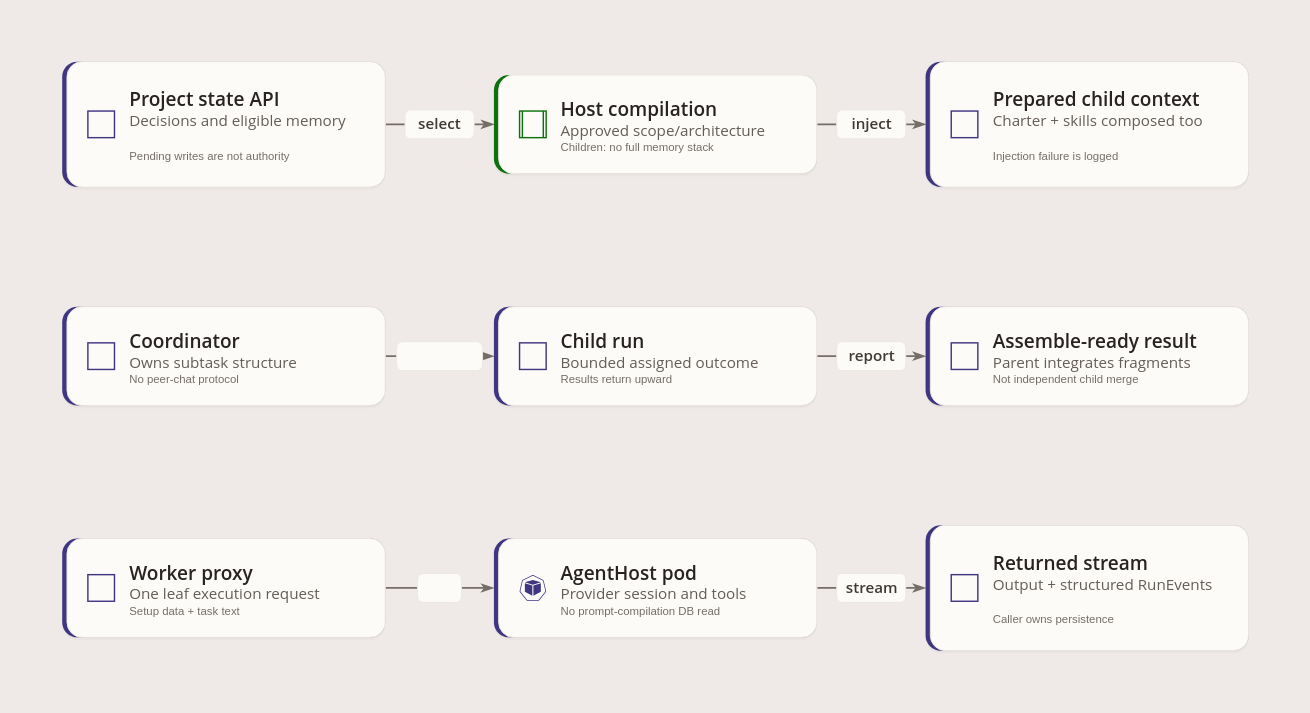
This 1310x713 diagram has some shape labels left out. The shapes that lost their labels are listed below. From the top down, each one's box as (x1, y1, x2, y2) in pixels, then its label:
(396, 341, 483, 371): dispatch
(417, 573, 462, 602): A2A
